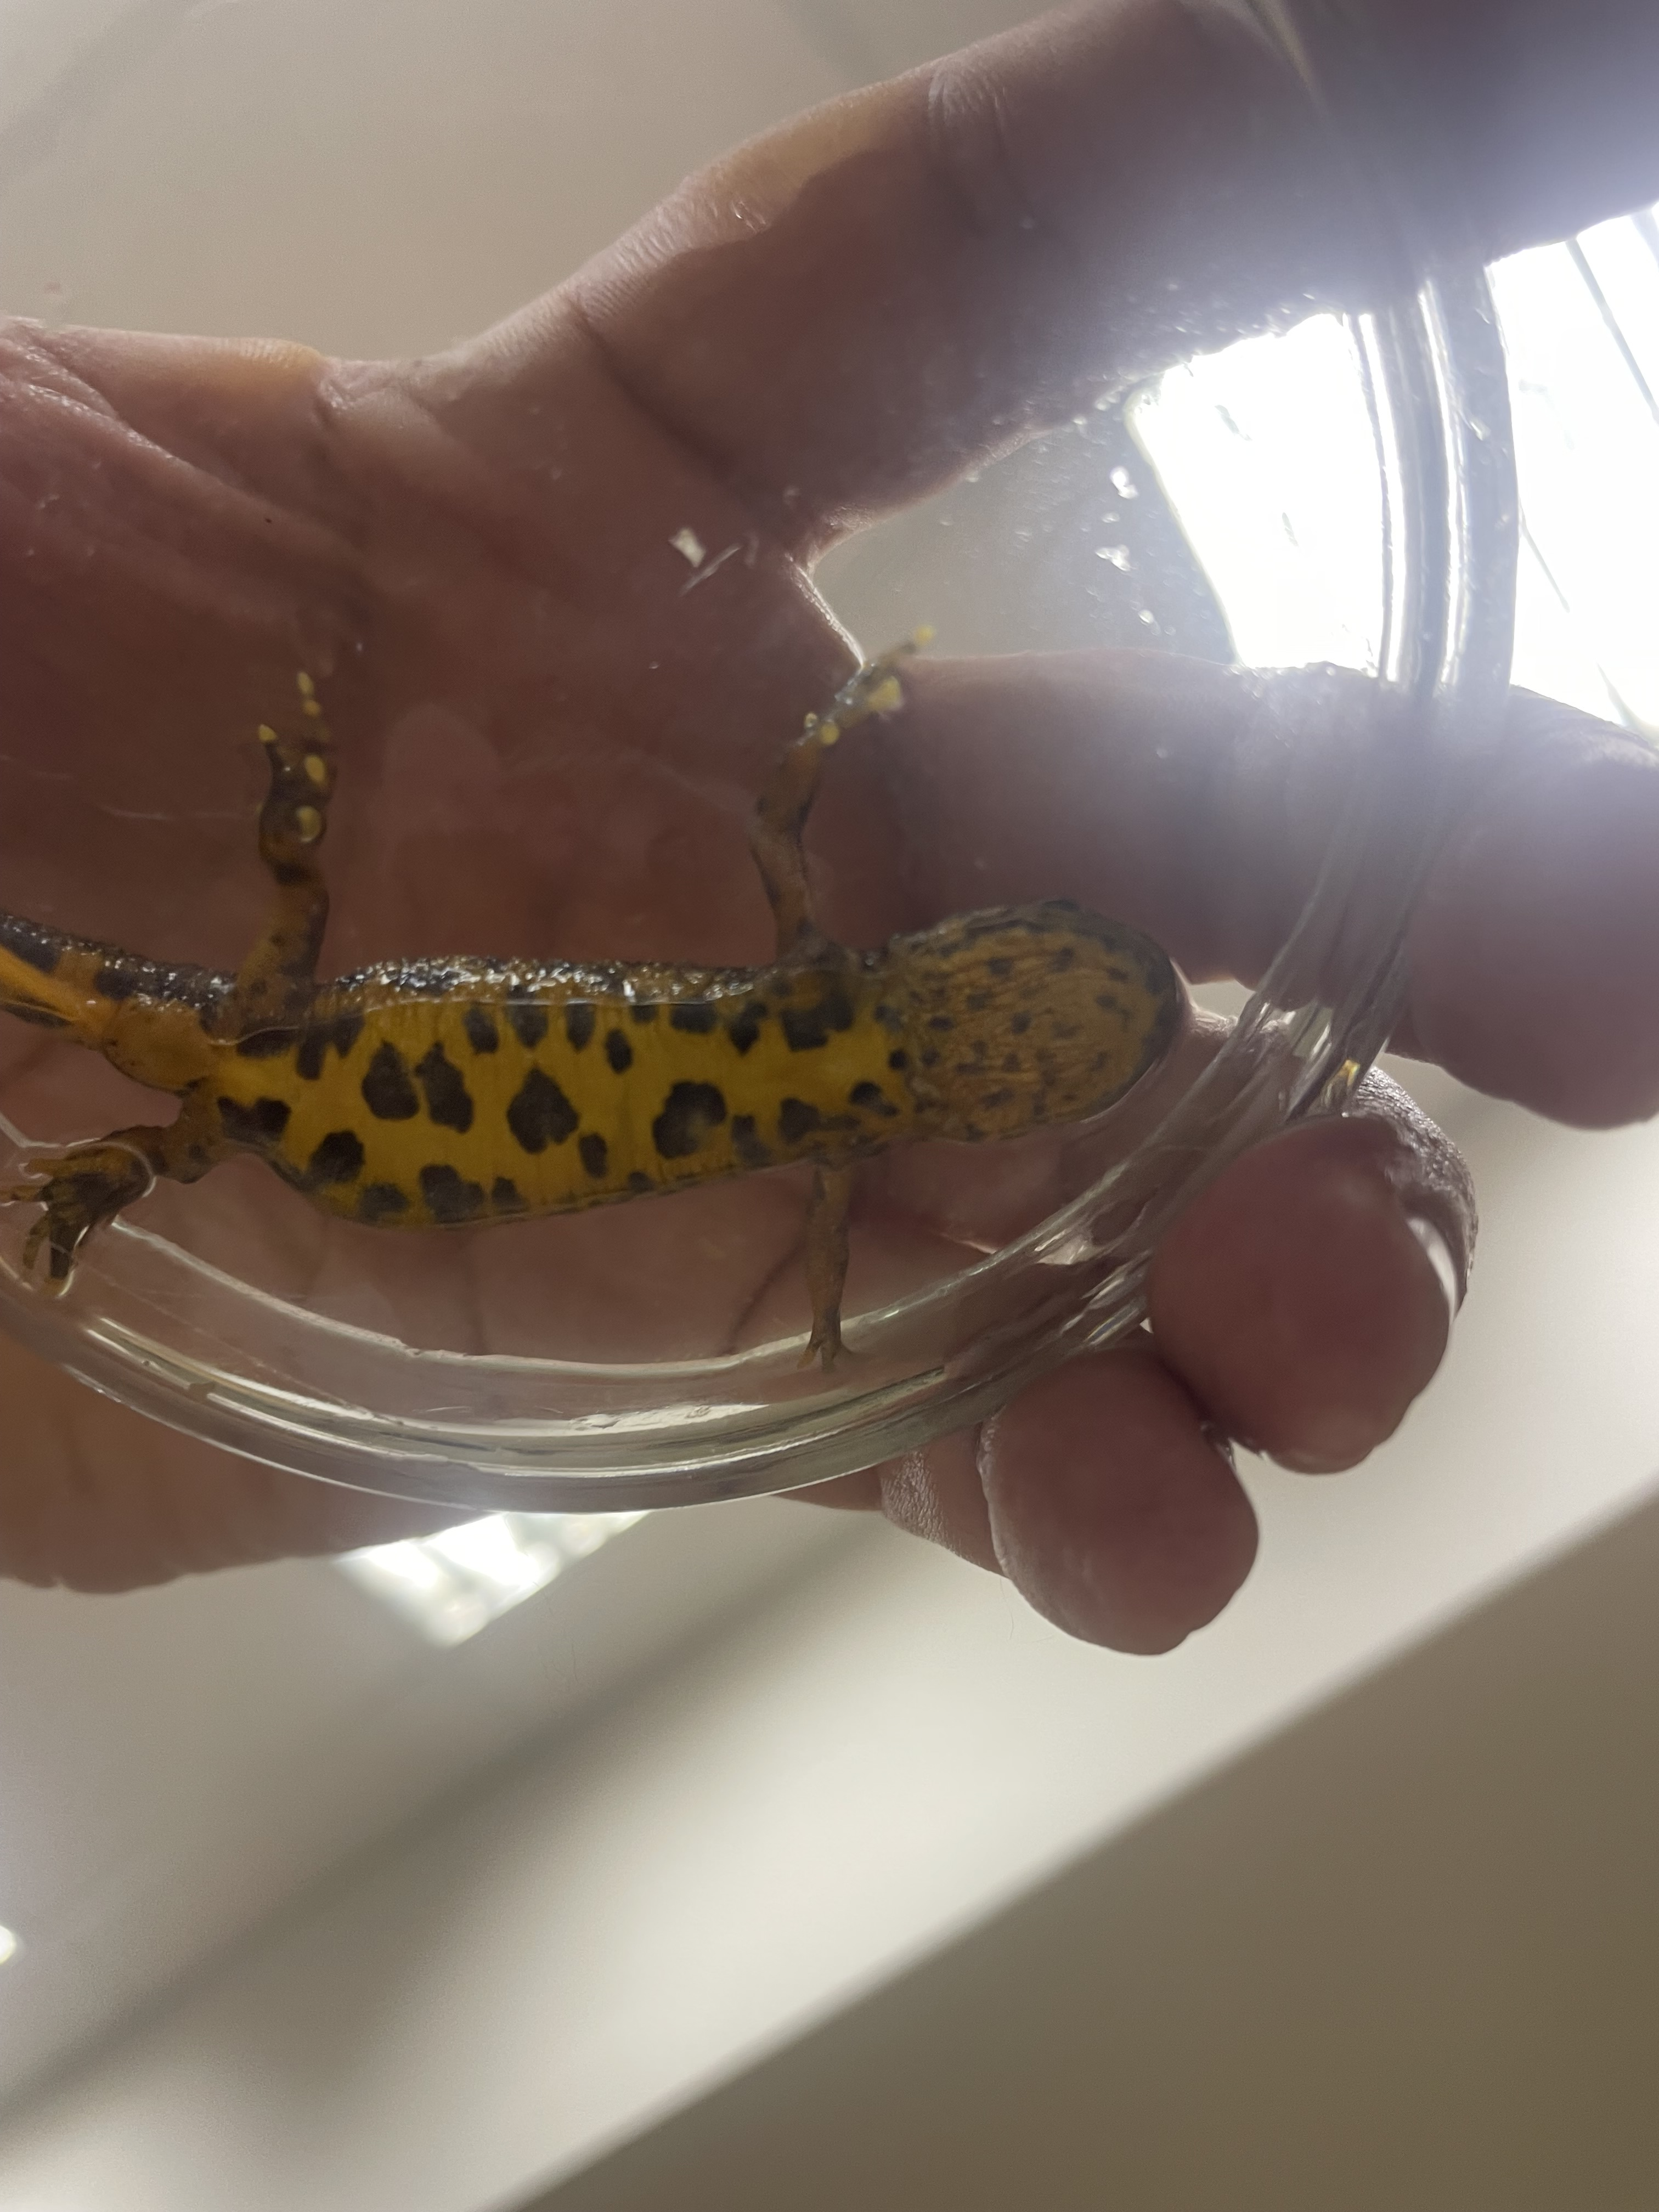Karelin_newt: (240, 956, 812, 1231)
